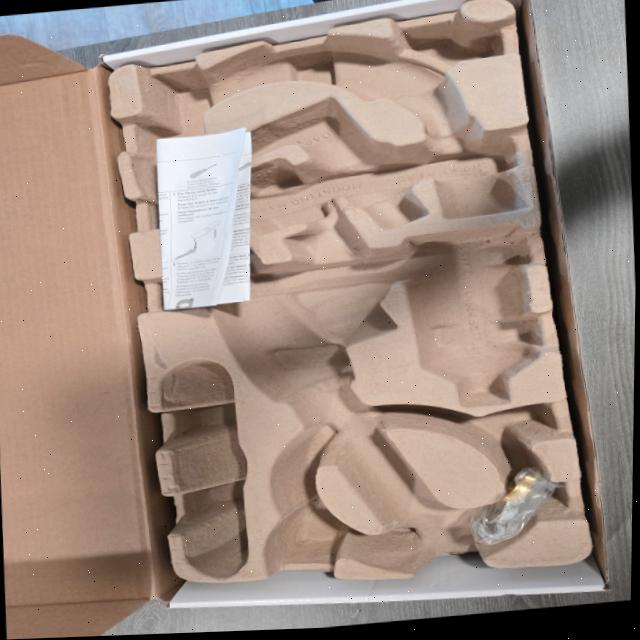1m: (133, 38, 528, 576)
2m: (207, 97, 424, 231)
3m: (403, 223, 542, 407)
4m: (162, 360, 249, 578)
5m: (277, 503, 342, 561)
6: (470, 470, 560, 546)
7m: (428, 402, 554, 458)
8: (158, 128, 254, 310)
